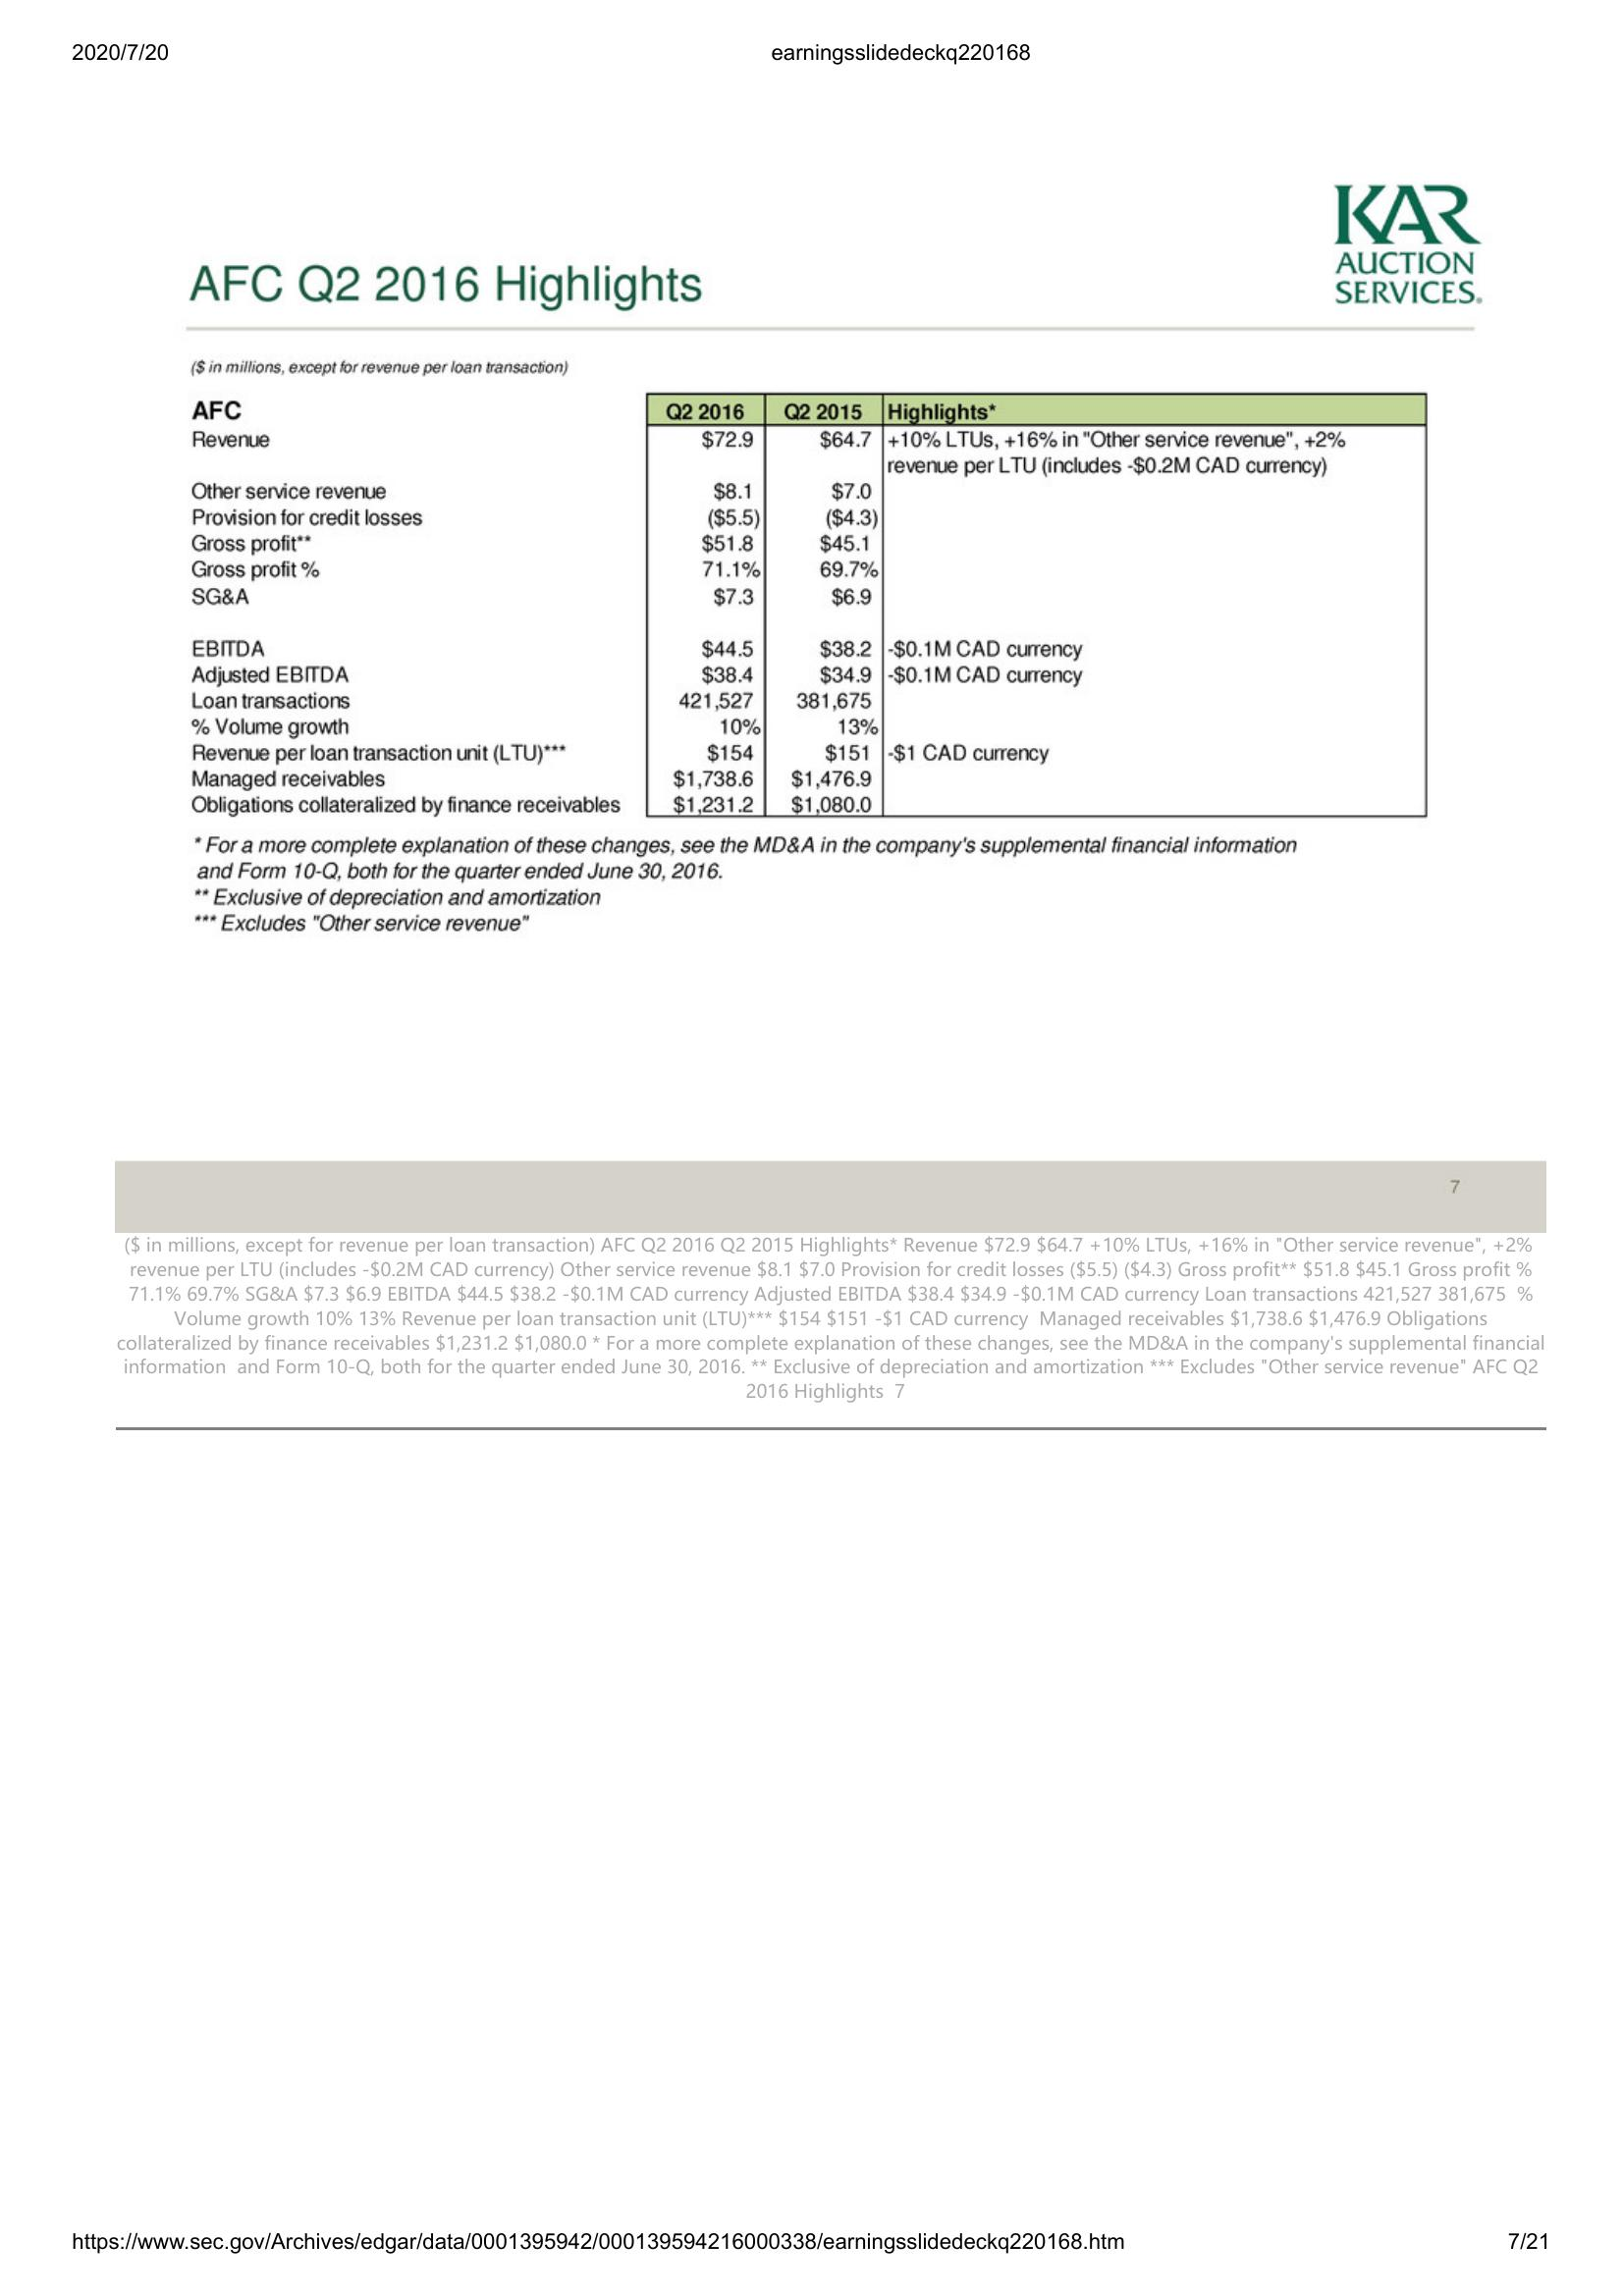table: (639, 384, 1437, 825)
